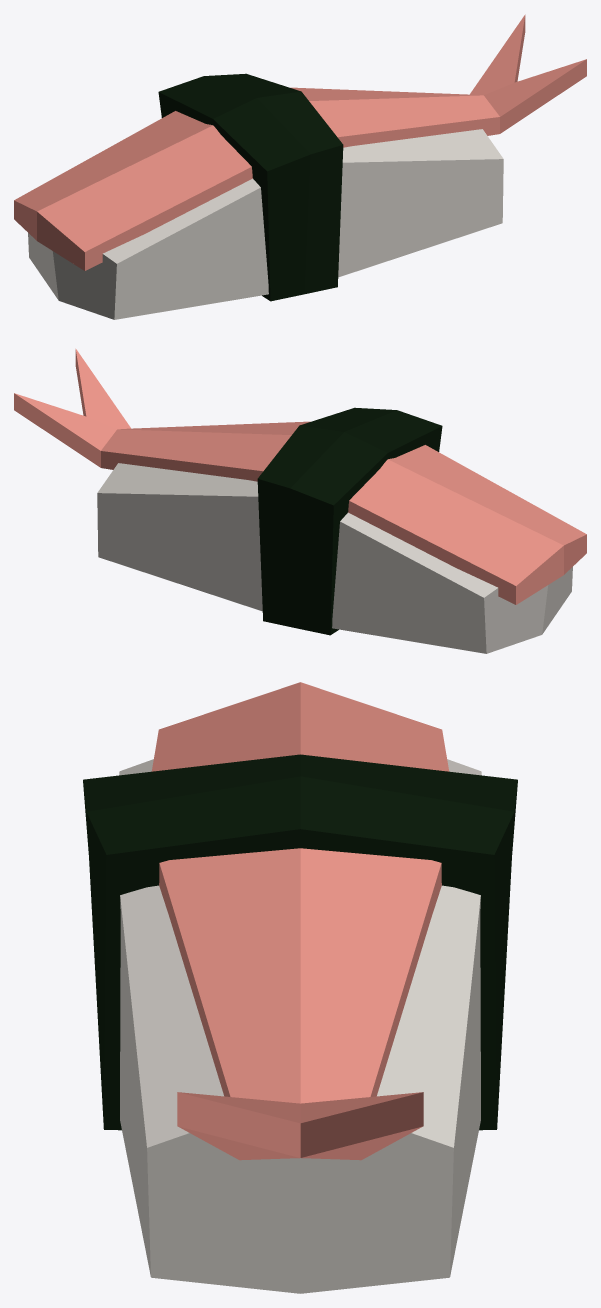
File: niguiriShrimpWithNori.fbx
3 views of the same model, one above another, from view 1: azimuth 30°, elevation 25°; view 2: azimuth 150°, elevation 25°; view 3: azimuth 270°, elevation 25° (orthographic). The views are drawn at different scales.
Visible parts, largest first — view 1: niguiriShrimpWithNori; view 2: niguiriShrimpWithNori; view 3: niguiriShrimpWithNori.
Boxes of the visible parts, x1,y1,x2,y2 form: niguiriShrimpWithNori: (14,14,586,319); niguiriShrimpWithNori: (14,348,586,653); niguiriShrimpWithNori: (83,682,517,1293).
Size of the model in its own units: 15.61 by 4.63 by 5.67.
1 material, 1 textured.
